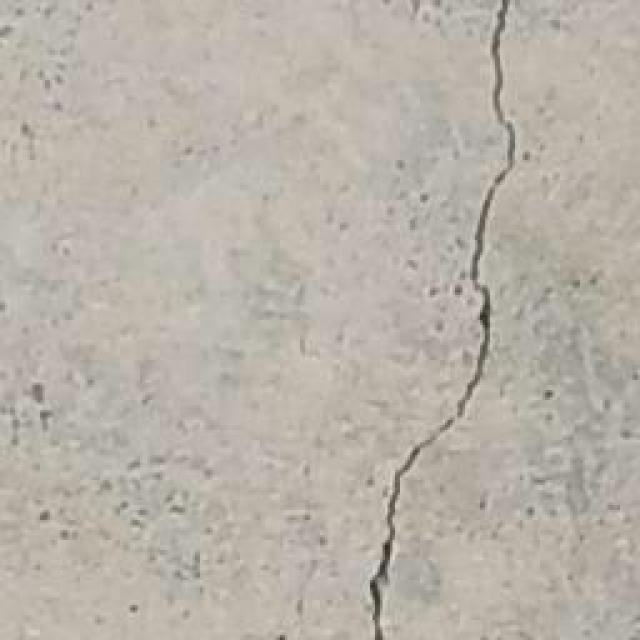concrete-crack: (368, 288, 490, 640), (468, 0, 518, 288)
